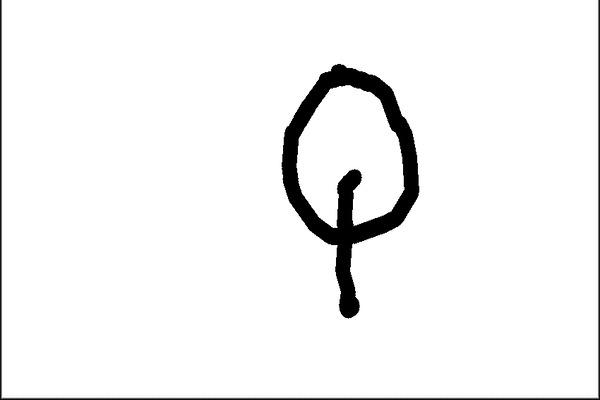Q: (270, 50, 433, 319)
